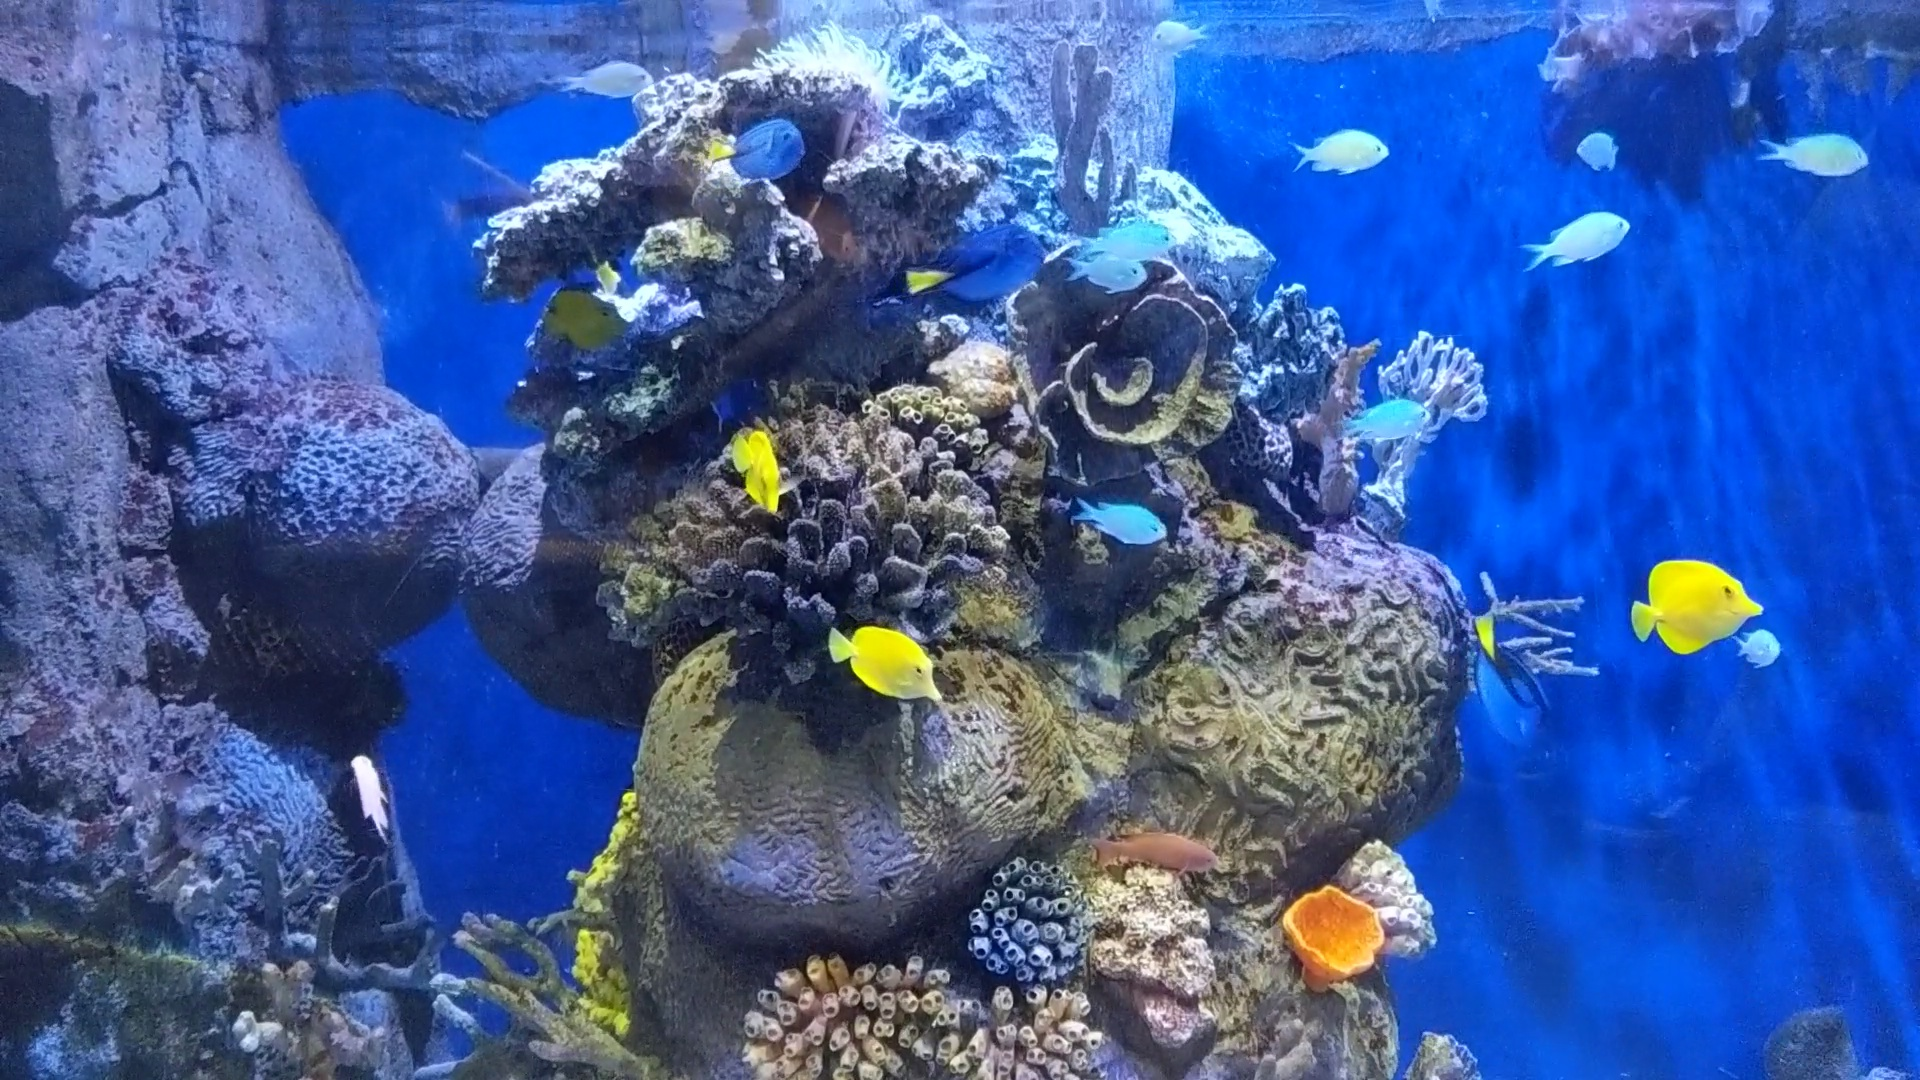blue tang surgeonfish: (1460, 608, 1561, 750), (895, 225, 1054, 295), (702, 117, 814, 178)
damselfish: (1069, 488, 1178, 551), (1751, 121, 1870, 175), (1329, 394, 1437, 454), (1519, 210, 1633, 265), (1288, 123, 1395, 181), (560, 54, 659, 105), (1077, 215, 1182, 264), (1058, 249, 1153, 293), (1735, 620, 1787, 684), (1145, 17, 1200, 61), (1569, 127, 1621, 171)
saddle butterfly fish: (1623, 559, 1767, 650), (832, 615, 945, 713), (531, 287, 669, 352), (721, 426, 789, 514)
